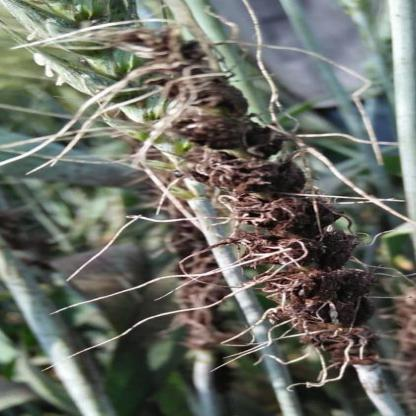Wheat Smut: (302, 272, 382, 354), (250, 209, 345, 261), (190, 108, 254, 145), (217, 160, 294, 190), (138, 40, 217, 67), (186, 268, 210, 346), (169, 76, 227, 97), (3, 218, 33, 242), (184, 236, 204, 258)
